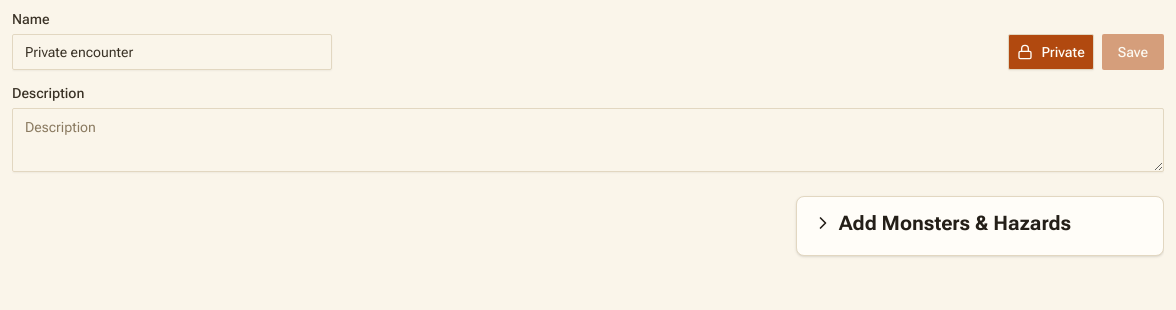
it: encounter editor mutation › keeps a private encounter private when it contains private content
This screenshot has width=1176, height=310.
Click the button "Private" at (1051, 52), box [1008,34,1094,70]
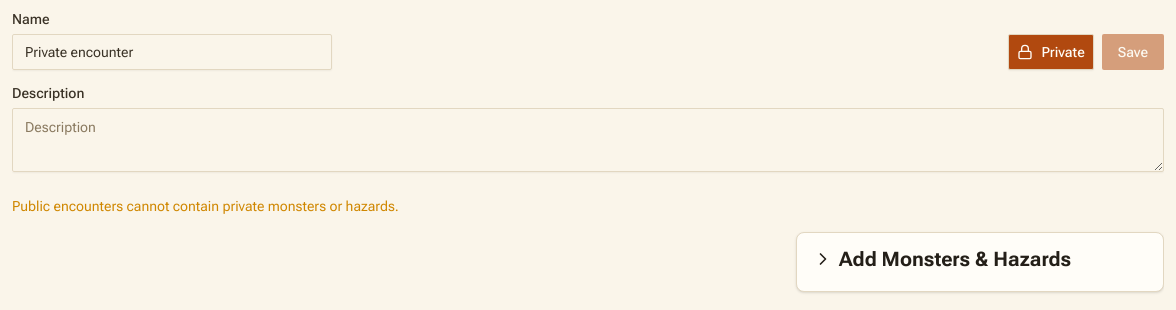
Check: the message reads "Public encounters cannot contain private monsters or hazards.", box [12,198,399,214]
